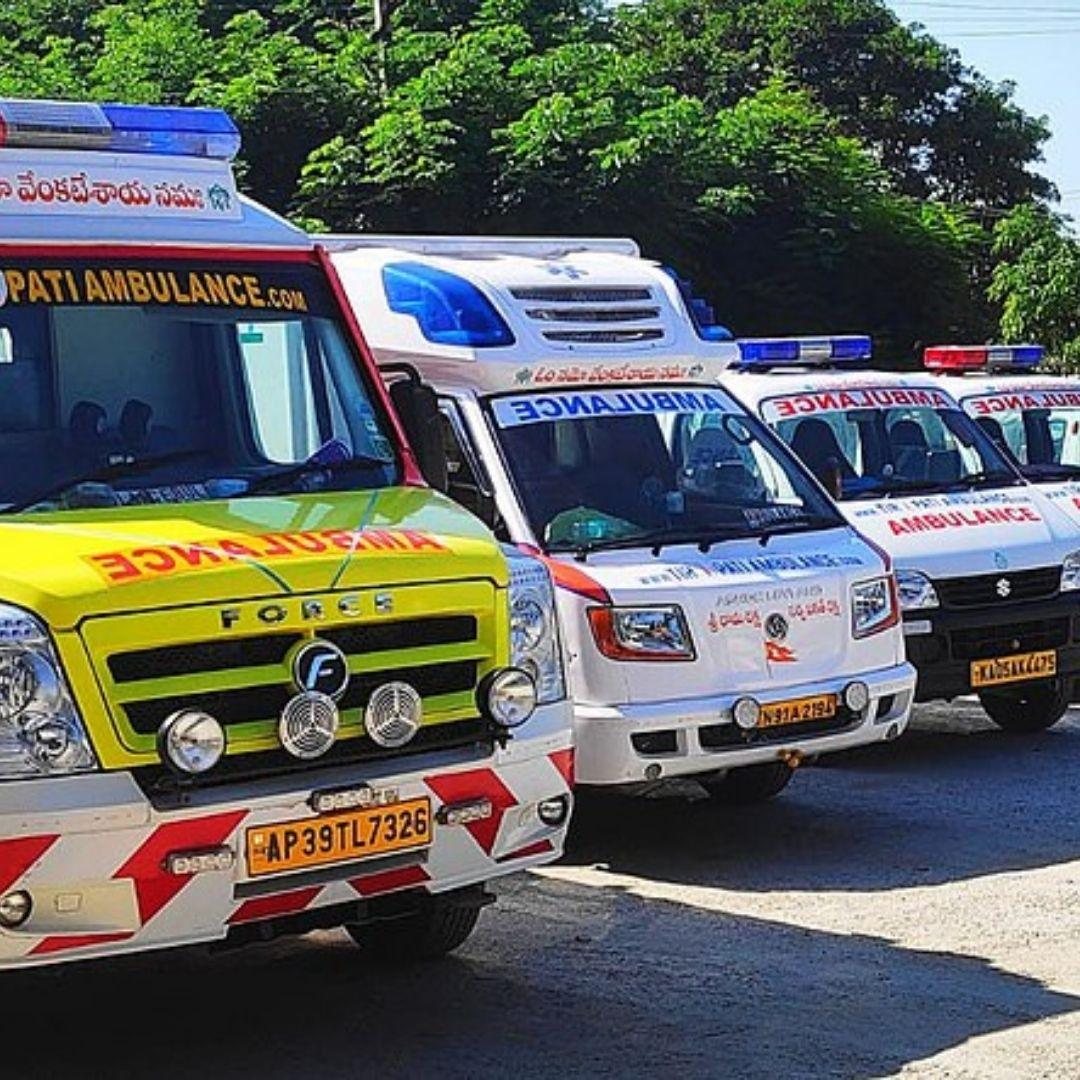ER: (0, 99, 571, 979), (324, 230, 919, 774), (717, 331, 1080, 724), (919, 346, 1080, 543)
